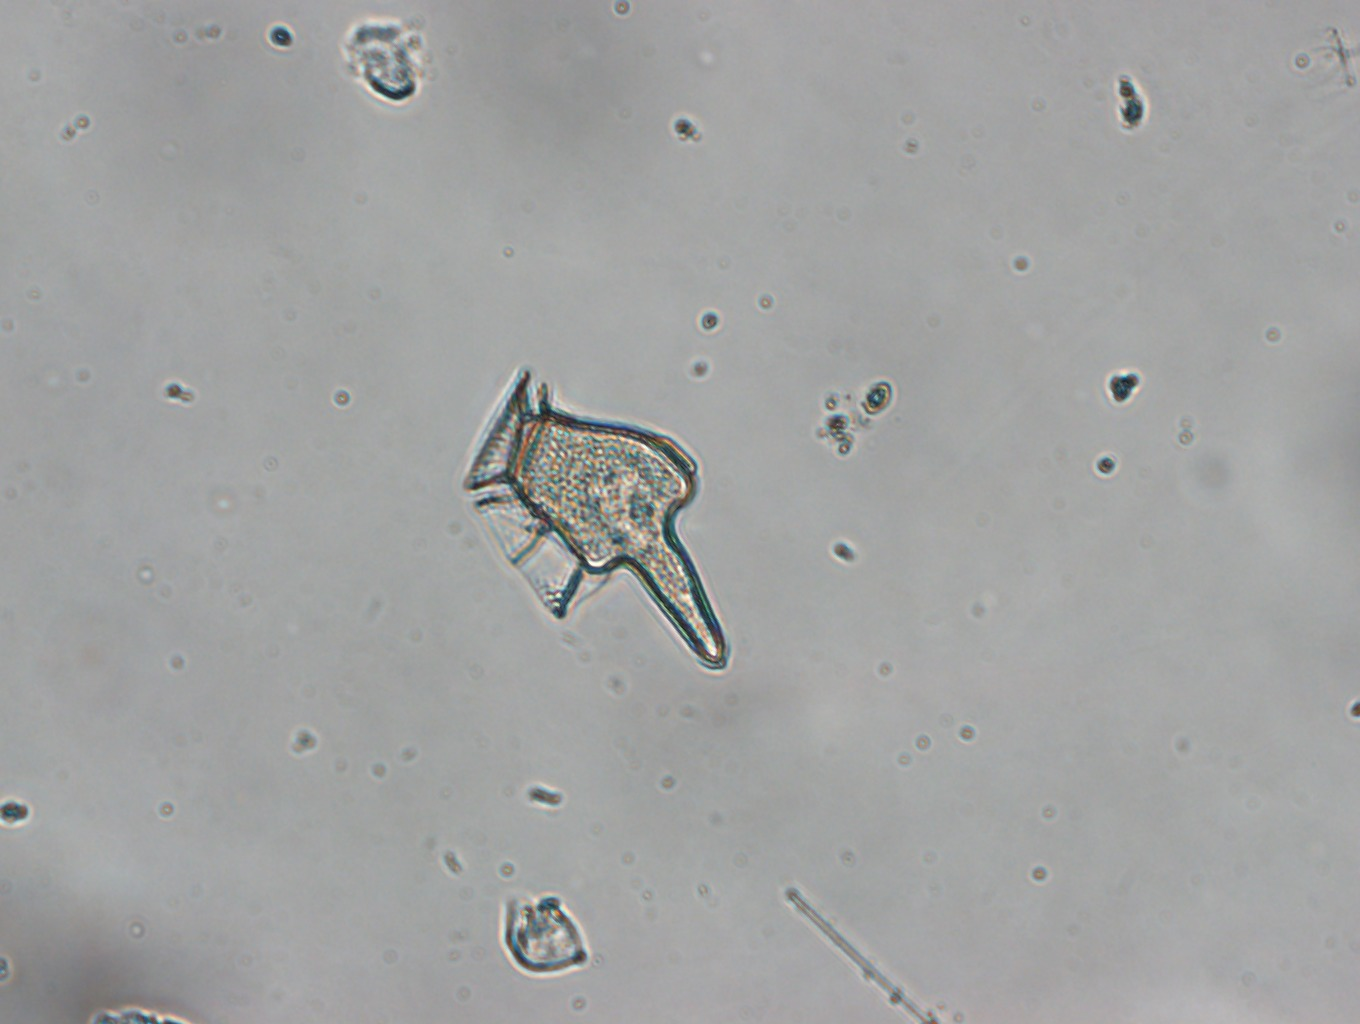dinophysis caudata: (461, 368, 729, 672)
